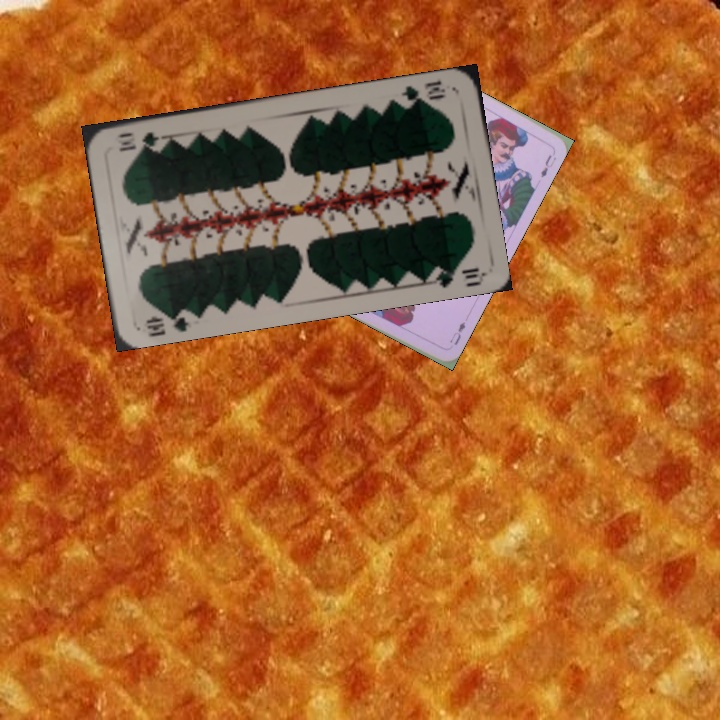EU: (446, 318, 468, 348)
G10: (141, 305, 196, 338), (397, 76, 448, 109)
